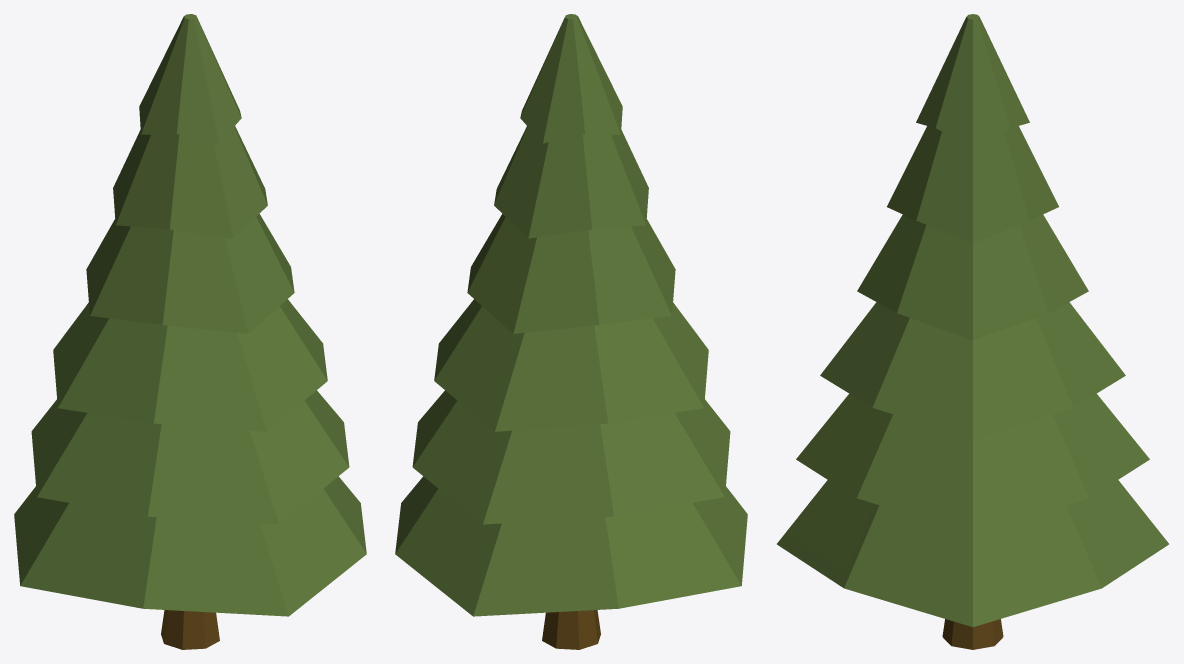
File: pine-tree-1-temperate.glb
3 views of the same model, side by side, from view 1: azimuth 30°, elevation 25°; view 2: azimuth 150°, elevation 25°; view 3: azimuth 270°, elevation 25° (orthographic).
Parts seen in each view (by area): view 1: Elka_0; view 2: Elka_0; view 3: Elka_0.
Part boxes in pixels (x1=…): Elka_0: x1=14, y1=14, x2=366, y2=649; Elka_0: x1=395, y1=14, x2=747, y2=649; Elka_0: x1=777, y1=14, x2=1168, y2=649.
Bounding box in the file's own units: 4.39 × 7.65 × 4.39.
